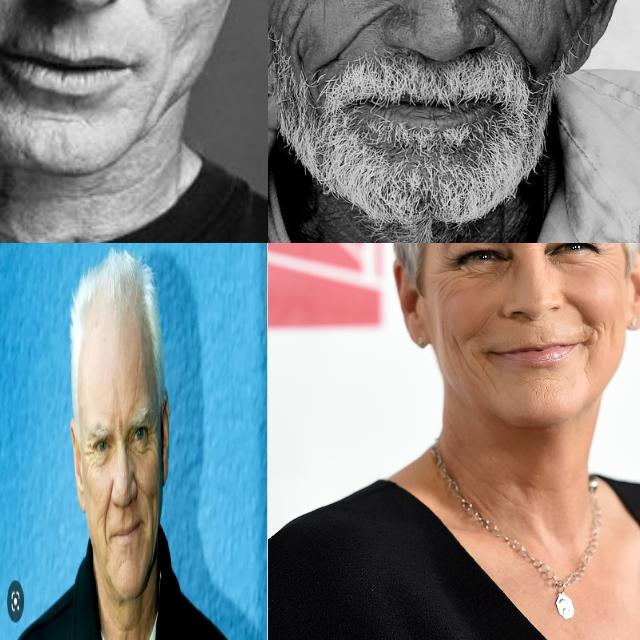chin: (527, 377, 555, 398)
crows_feet: (438, 252, 460, 294), (599, 243, 618, 278), (147, 421, 158, 454), (84, 436, 94, 462)
forehead: (134, 359, 141, 394)
gummy_smile: (328, 1, 398, 48), (482, 6, 528, 56), (22, 106, 98, 132), (466, 310, 498, 340), (568, 292, 598, 322), (103, 481, 113, 534), (129, 0, 157, 14)
masseter: (269, 0, 308, 42), (553, 0, 581, 35), (150, 500, 156, 553)
sad_smile: (460, 348, 492, 384), (584, 332, 602, 371)
